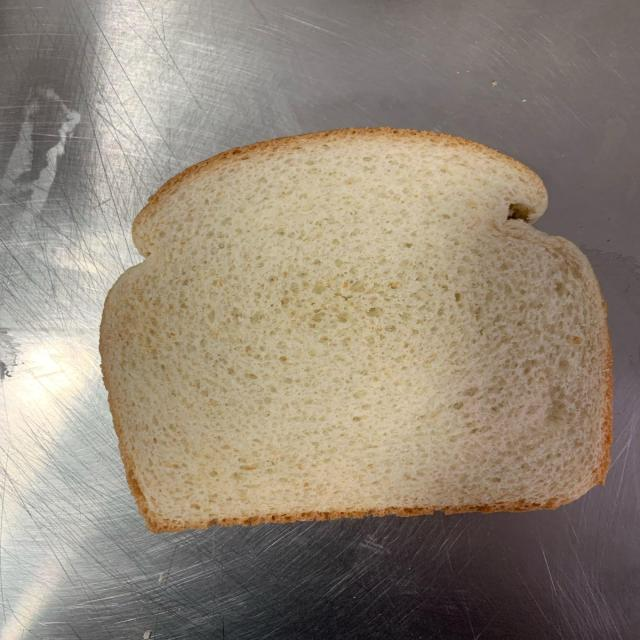sliced_bread: (99, 128, 613, 528)
